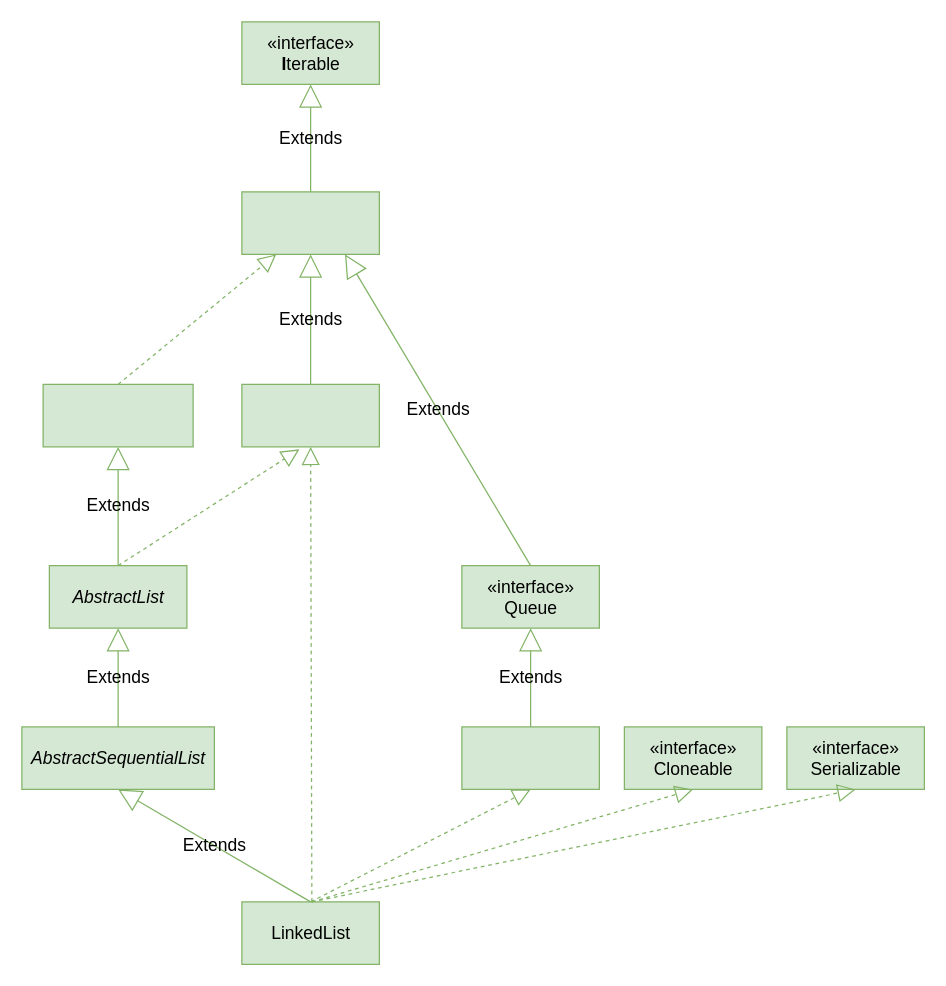
Image size: 946x986. Some labels were removed from this diagram. Here are the shapes that lost their labels. From the top down, the centre of each, then its label:
At pixel 310 222: "«interface» Collection".
At pixel 117 415: "AbstractCollection".
At pixel 310 415: "«interface» List".
At pixel 530 757: "«interface» Deque".
